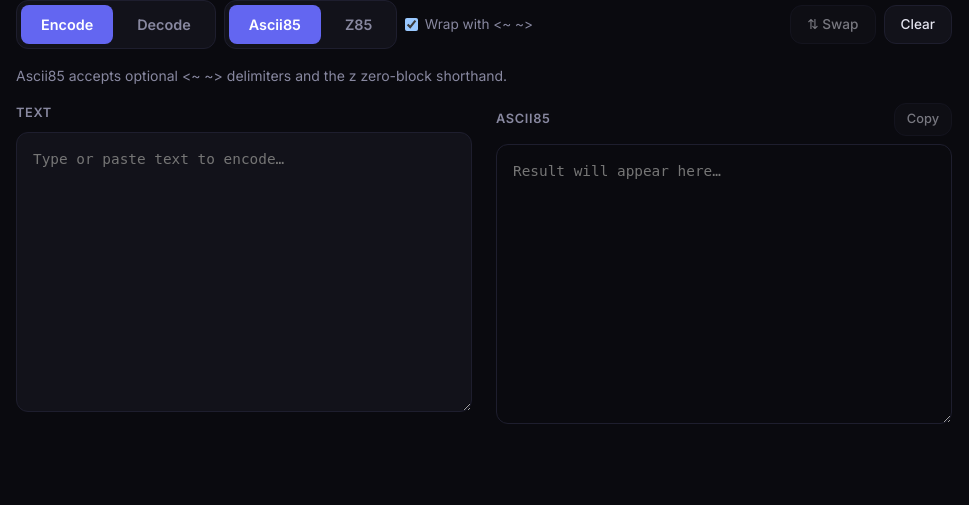
Test: Base85Tool › shows a non-crashing alert for malformed decode data
Click the button "Decode".
click(164, 24)  # box [117, 5, 211, 44]
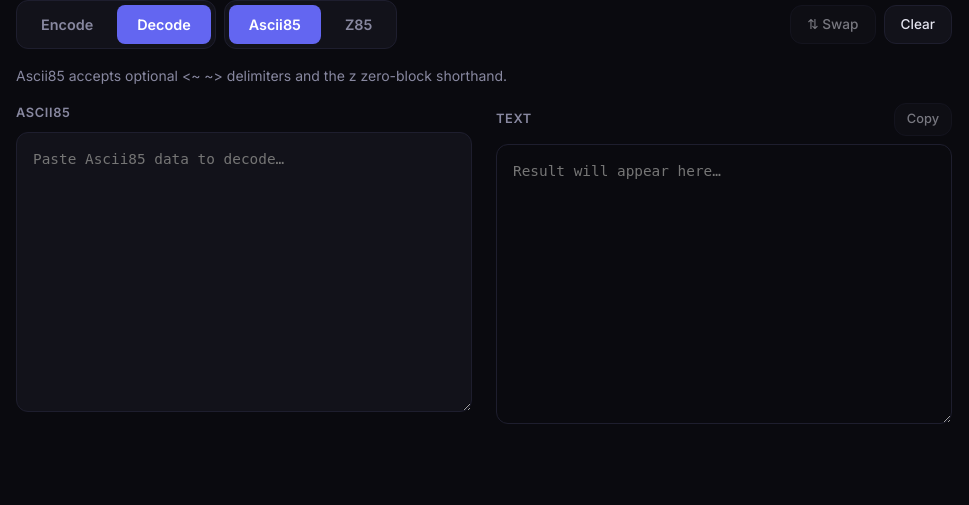
Type "!" into the text box labelled "Ascii85".
click(244, 272); type("!")  # box [16, 132, 472, 412]
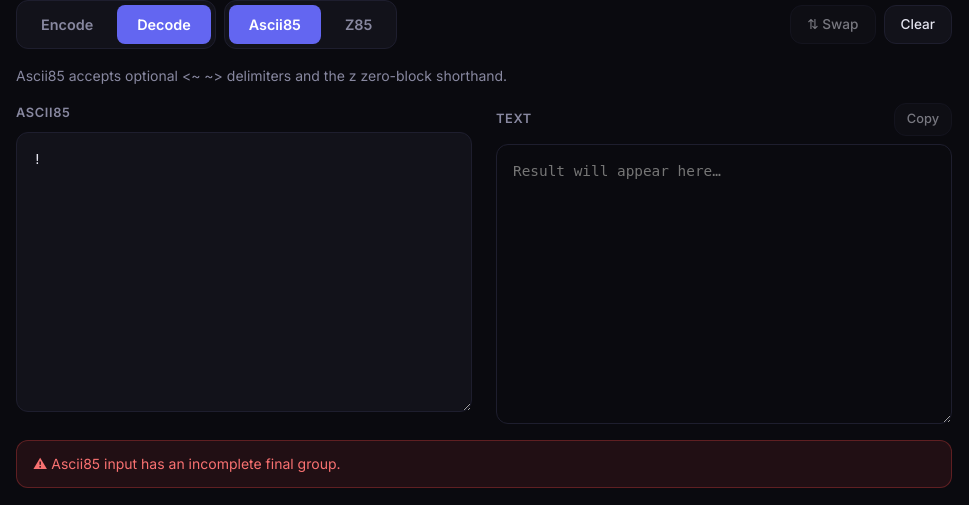
Expected: the text box labelled "Text" is empty, [496, 144, 952, 424]
Now the message shows "incomplete final group", box [51, 454, 340, 472]
